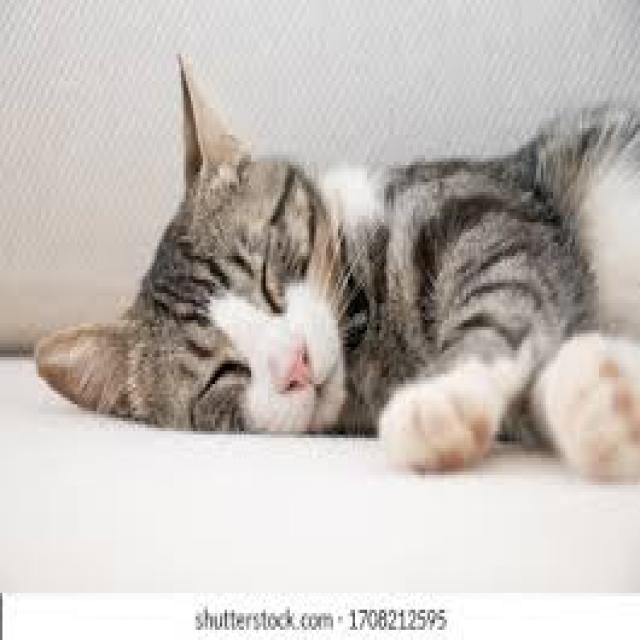Cat: (31, 44, 640, 488)
